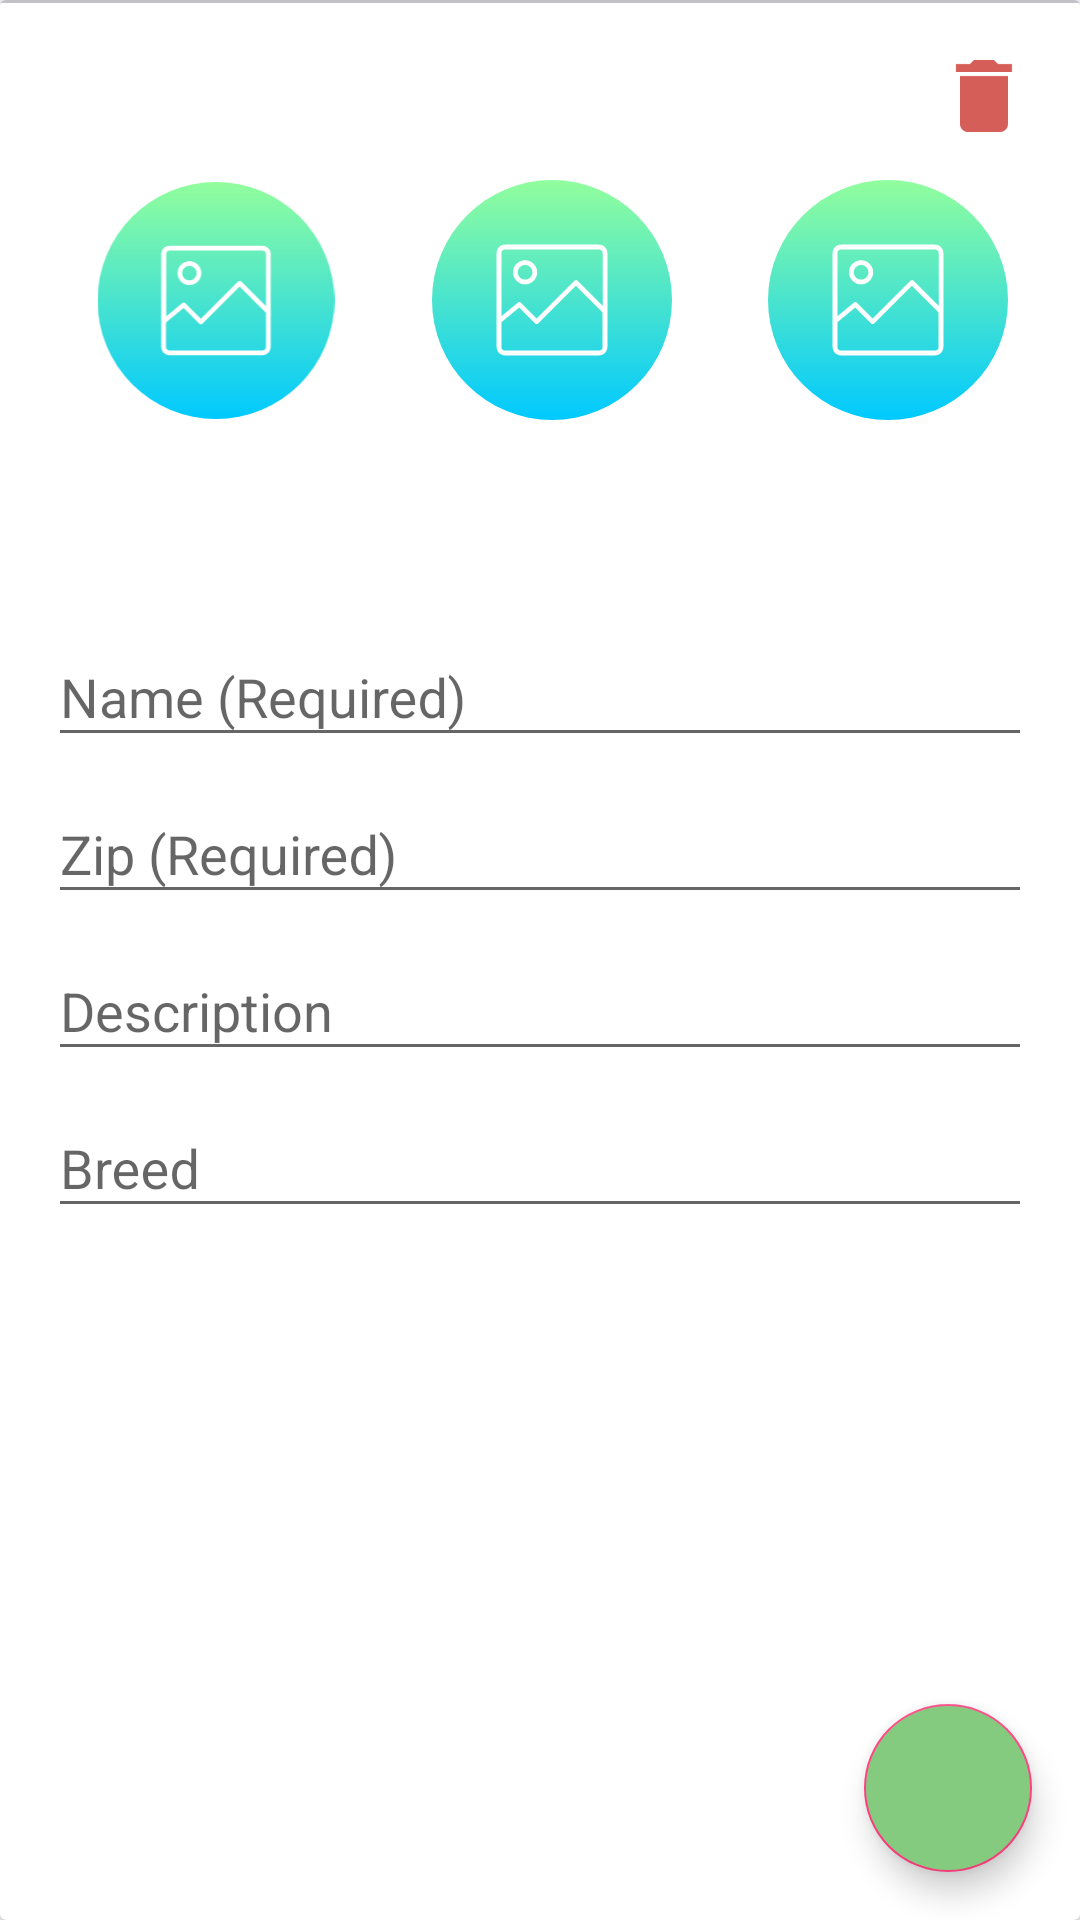

Point at icon controls on the screen. Image size 1080x1920, points as [x,y].
delete: [984,96]
gallery: [552,300], [888,300], [216,300]
